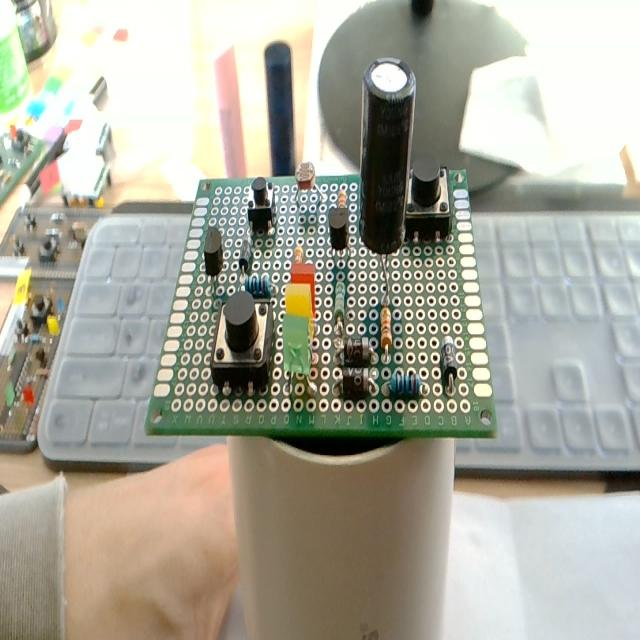Electrolytic capacitor: (358, 58, 416, 256)
cds: (290, 156, 328, 208)
diode: (334, 369, 379, 401), (332, 336, 377, 366), (440, 336, 457, 393), (238, 231, 253, 273)
led: (282, 312, 312, 375), (284, 281, 315, 319)
resistor: (332, 271, 347, 336), (389, 370, 423, 398), (244, 274, 272, 298), (380, 306, 392, 356)
switch: (210, 290, 274, 392), (404, 163, 451, 243), (247, 178, 276, 237)
transistor: (204, 226, 224, 292), (329, 208, 348, 250)
